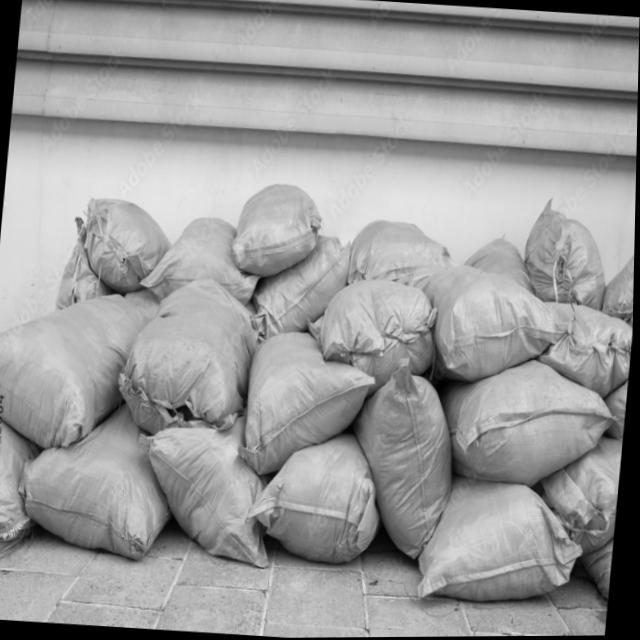sack: (14, 395, 181, 561), (0, 284, 157, 452), (437, 354, 623, 492), (115, 271, 266, 436), (237, 309, 381, 481), (416, 472, 591, 613), (130, 407, 283, 568), (344, 355, 464, 560), (245, 427, 388, 567), (418, 263, 578, 388), (303, 274, 443, 400), (248, 230, 353, 344), (140, 212, 264, 305), (538, 432, 624, 554), (521, 196, 613, 310), (81, 191, 175, 297), (537, 298, 635, 398), (231, 180, 325, 281), (347, 217, 454, 291), (0, 406, 48, 555)
